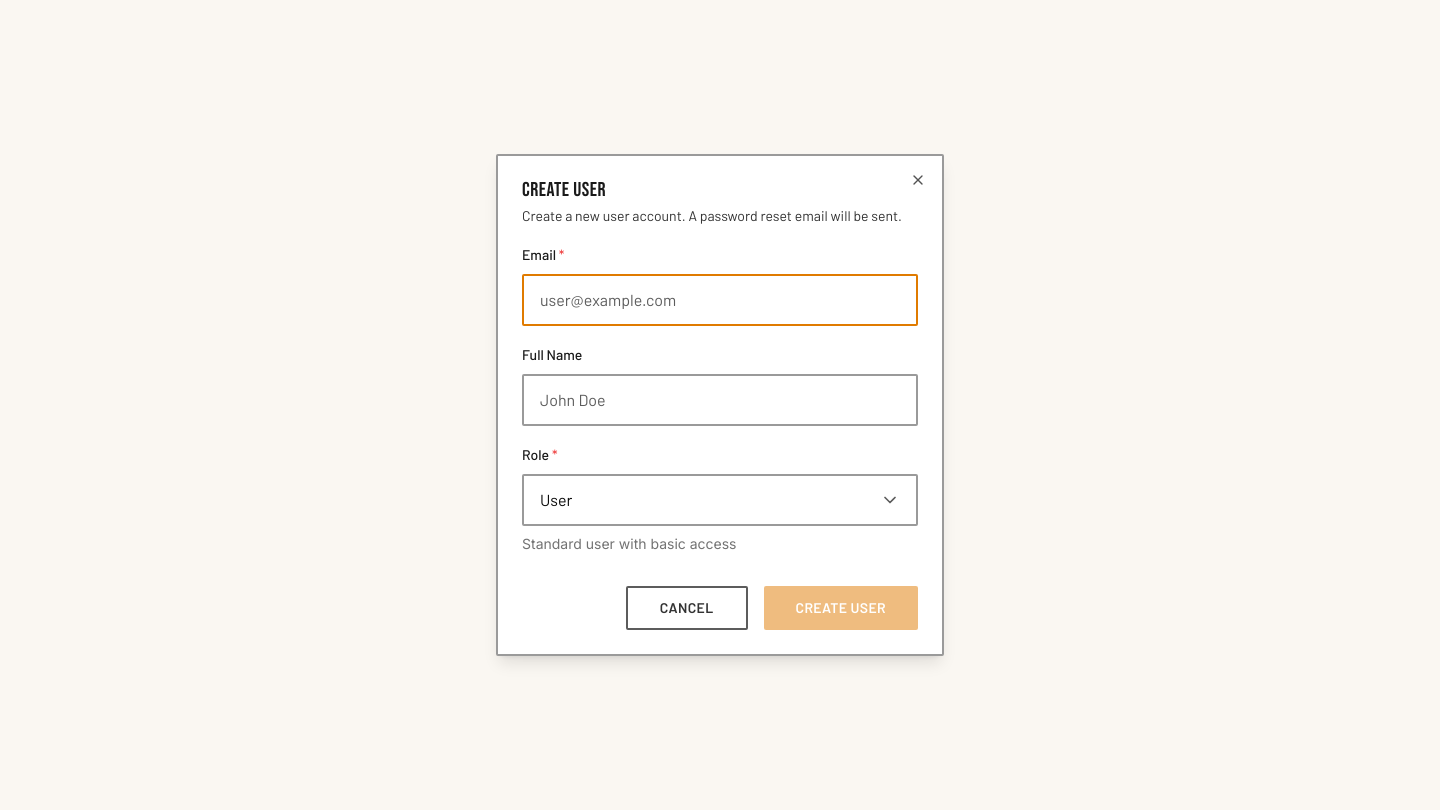
Test: UserFormModal › Validation › shows error for invalid email format
The width and height of the screenshot is (1440, 810).
Type "invalid-email" into the field with test id "email-input" at (720, 300), box [522,274,918,326]
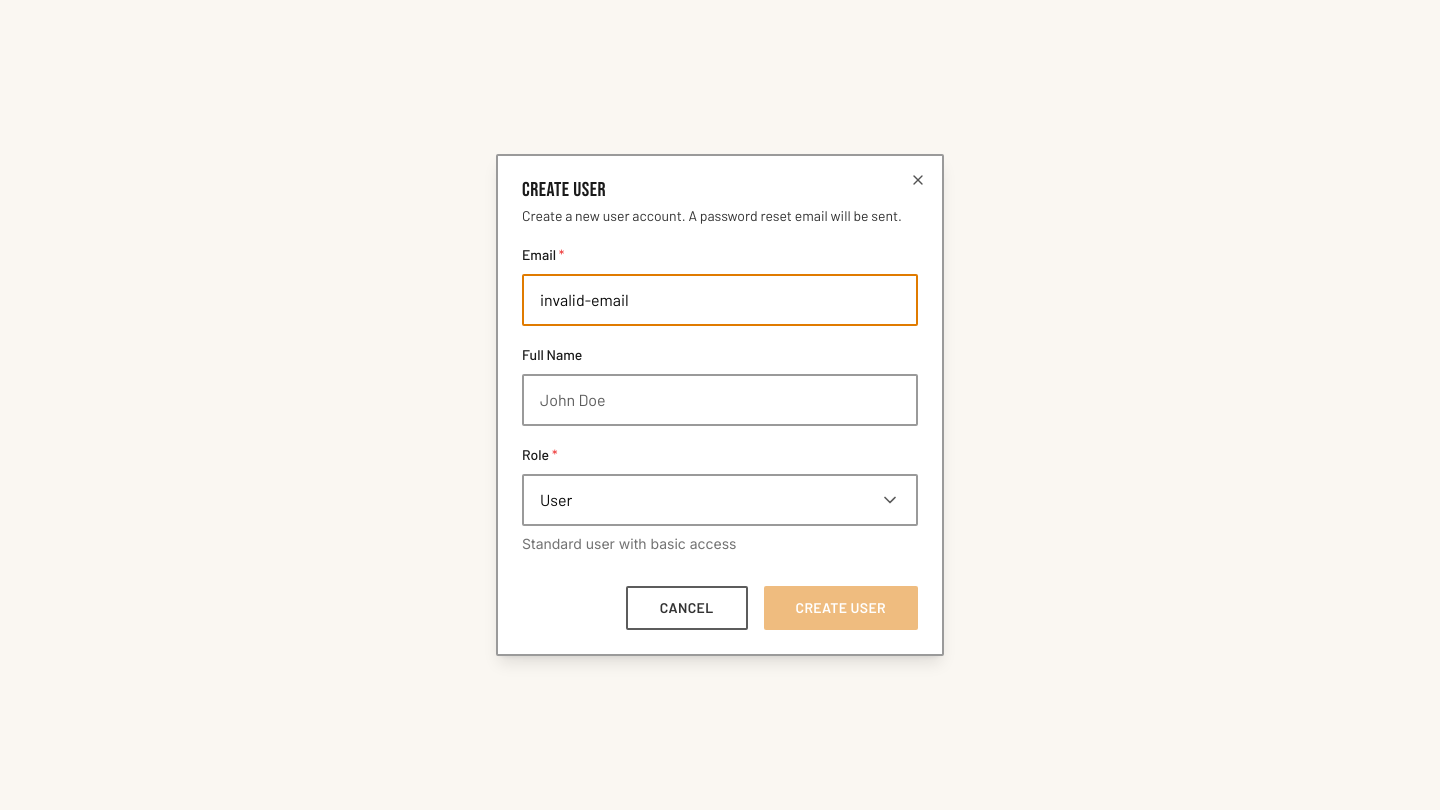
Press Tab
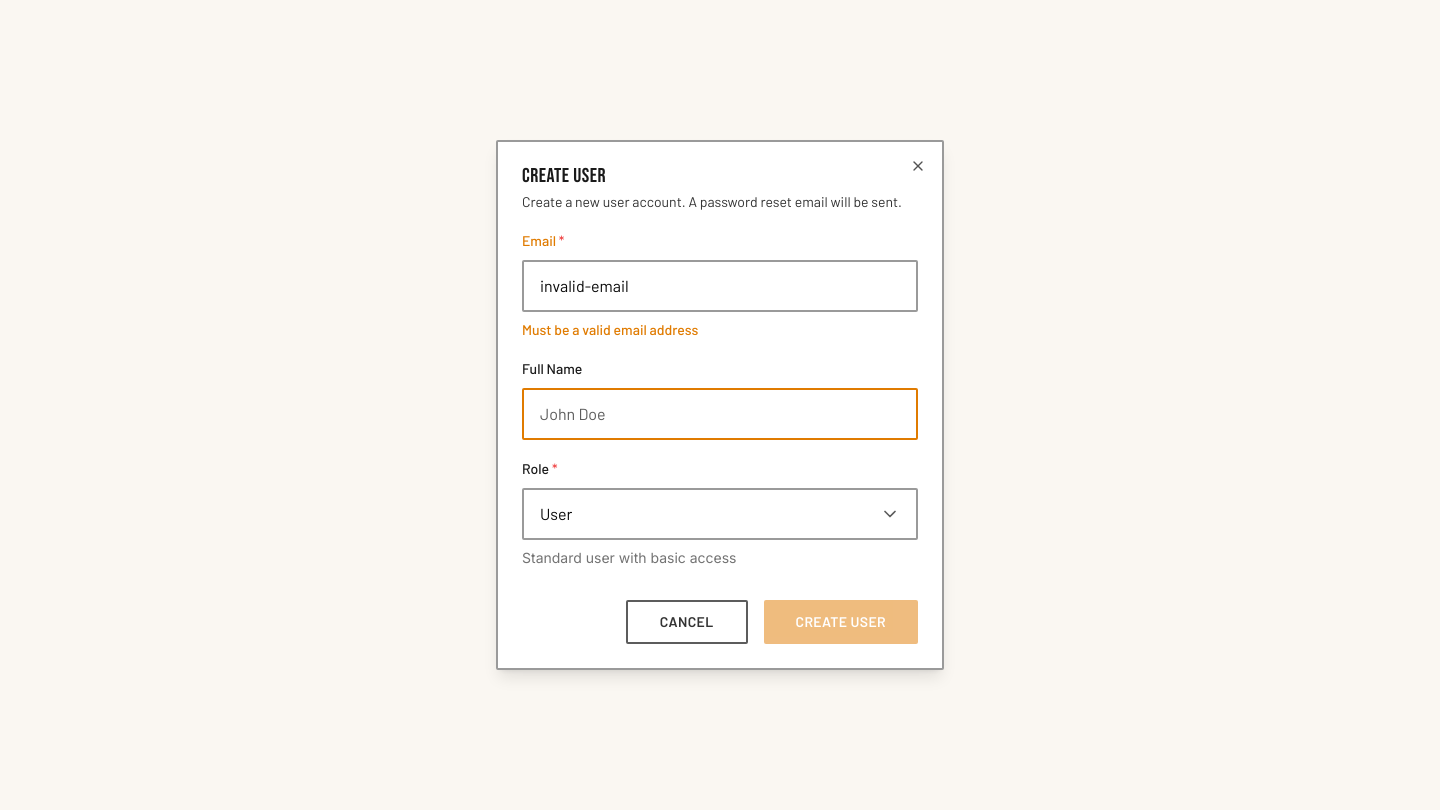
Expected: the message with test id "email-error" reads "Must be a valid email address", [522,321,698,338]
